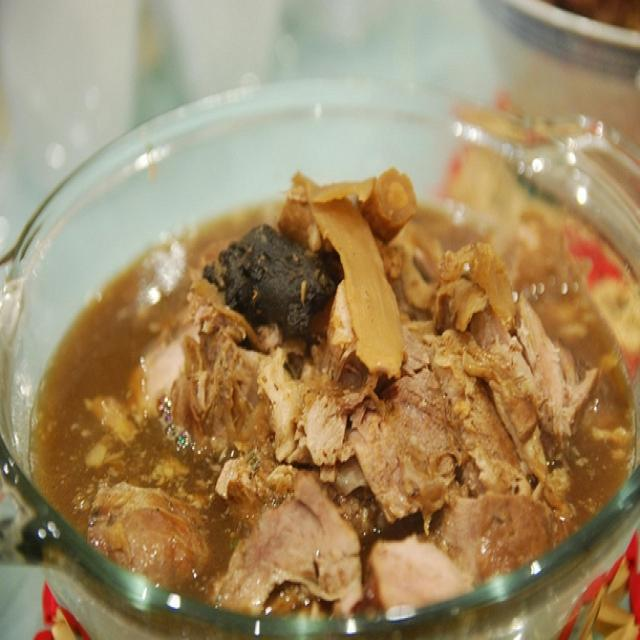汤锅炖物: (7, 44, 634, 626)
